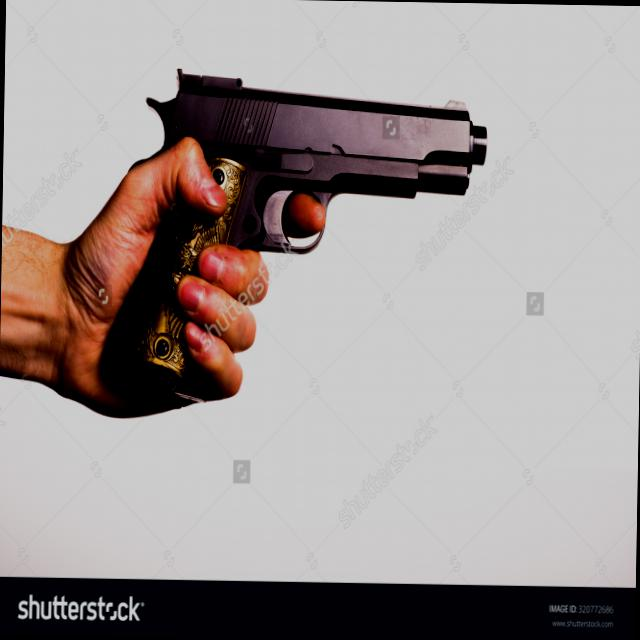handgun: (104, 62, 488, 404)
